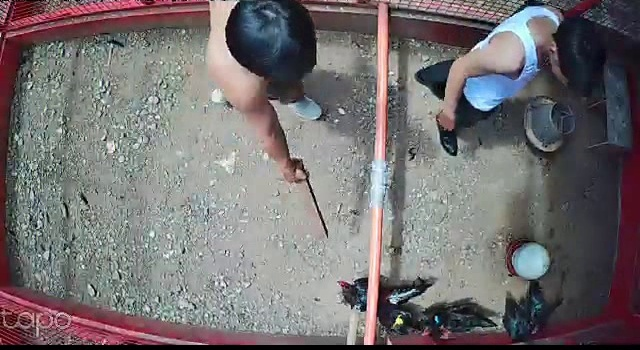Chicken: (418, 296, 494, 349), (361, 297, 428, 339), (490, 292, 540, 345)
Rooster: (334, 269, 428, 320)
Saddle_Color_Blue: (435, 315, 441, 324)
Saddle_Color_Yellow: (393, 312, 406, 329)
